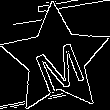M_N: (26, 27, 86, 92)
